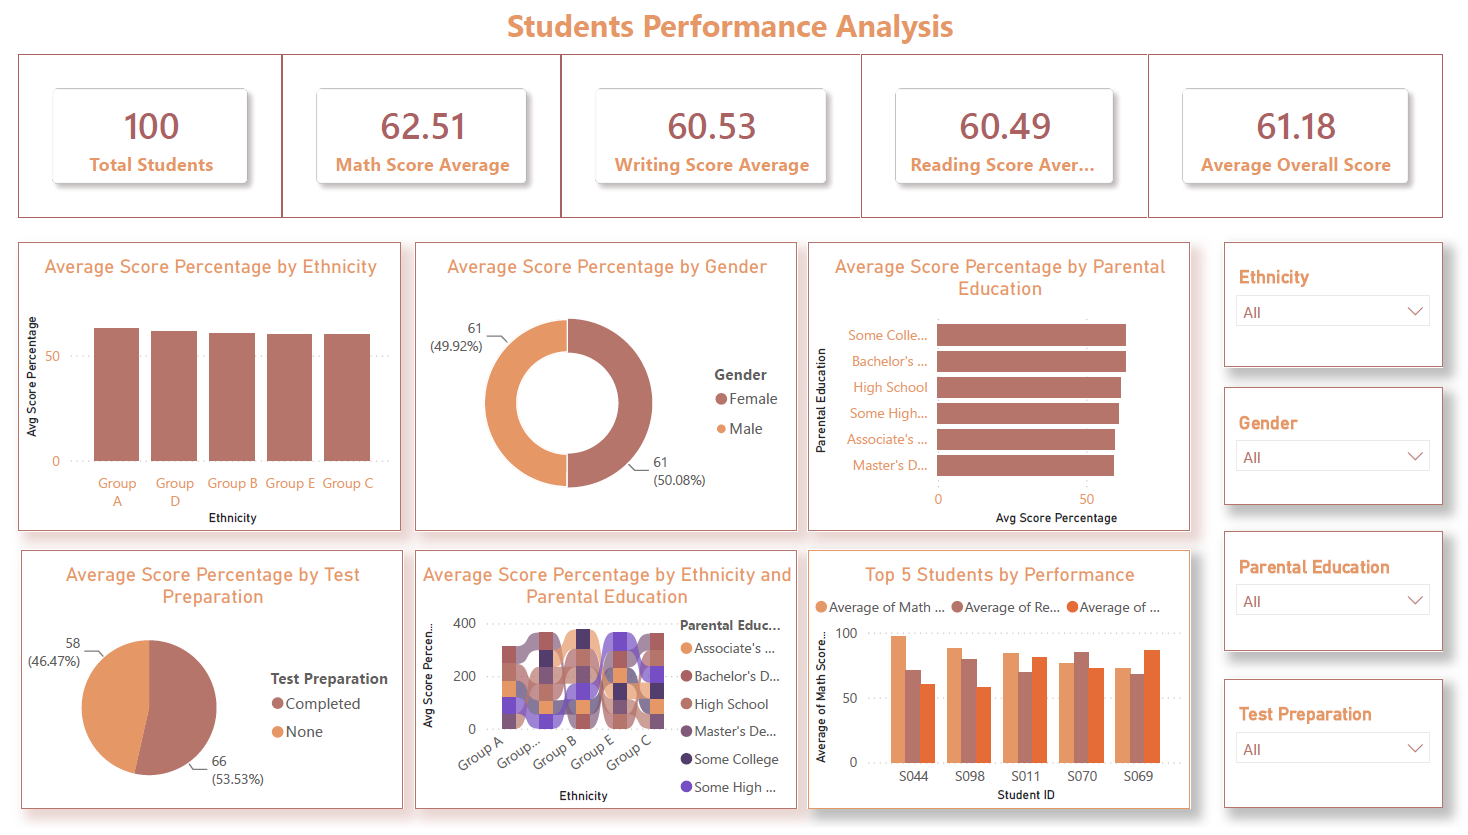

The dashboard page shown, as its layout file describes it:
{"tool":"powerbi","page":{"name":"Page 1","canvas":[1280,720],"ordinal":0},"visuals":[{"type":"textbox","box":[9.7,0,1271.1,63.1],"z":0},{"type":"cardVisual","fields":{"Data":["CountNonNull(Marks.Student ID)"]},"box":[24.3,48.6,228.3,142.5],"z":1000},{"type":"cardVisual","fields":{"Data":["Avg(Marks.Math Score)"]},"box":[252.6,48.6,242.9,142.5],"z":2000},{"type":"cardVisual","fields":{"Data":["Avg(Marks.Writing Score)"]},"box":[495.5,48.6,259.1,142.5],"z":3000},{"type":"cardVisual","fields":{"Data":["Avg(Marks.Reading Score)"]},"box":[754.6,48.6,249.4,142.5],"z":4000},{"type":"cardVisual","fields":{"Data":["Avg(Marks.Score Percentage)"]},"box":[1003.9,48.6,255.8,142.5],"z":5000},{"type":"slicer","fields":{"Values":["Marks.Ethnicity"]},"box":[1070.3,212.1,189.4,108.5],"z":6000},{"type":"slicer","fields":{"Values":["Marks.Gender"]},"box":[1070.3,338.4,189.4,102],"z":7000},{"type":"slicer","fields":{"Values":["Marks.Parental Education"]},"box":[1070.3,463.1,189.4,103.6],"z":8000},{"type":"columnChart","title":"Average Score Percentage by Ethnicity","fields":{"Category":["Marks.Ethnicity"],"Y":["Avg(Marks.Score Percentage)"]},"box":[24.3,212.1,331.9,251],"z":9000},{"type":"donutChart","title":"Average Score Percentage by Gender","fields":{"Category":["Marks.Gender"],"Y":["Avg(Marks.Score Percentage)"]},"box":[367.6,212.1,331.9,251],"z":10000},{"type":"clusteredBarChart","title":"Average Score Percentage by Parental Education","fields":{"Category":["Marks.Parental Education"],"Y":["Avg(Marks.Score Percentage)"]},"box":[709.2,212.1,331.9,251],"z":11000},{"type":"pieChart","title":"Average Score Percentage by Test Preparation","fields":{"Y":["Avg(Marks.Score Percentage)"],"Category":["Marks.Test Preparation"]},"box":[25.9,479.3,331.9,225.1],"z":12000},{"type":"ribbonChart","title":"Average Score Percentage by Ethnicity and Parental Education","fields":{"Category":["Marks.Ethnicity"],"Y":["Avg(Marks.Score Percentage)"],"Series":["Marks.Parental Education"]},"box":[367.6,479.3,331.9,225.1],"z":13000},{"type":"slicer","fields":{"Values":["Marks.Test Preparation"]},"box":[1070.3,591,189.4,111.7],"z":14000},{"type":"clusteredColumnChart","title":" Top 5 Students by Performance","fields":{"Y":["Avg(Marks.Math Score)","Avg(Marks.Reading Score)","Avg(Marks.Writing Score)"],"Category":["Marks.Student ID"]},"box":[709,479,332,225],"z":15000}]}

Visuals, with their boxes in screenshot pixels (x1, y1, x2, y2), scaled from the page's 1280x720 canvas onto the 1468x835 screenshot:
textbox: [left=11, top=0, right=1467, bottom=73]
cardVisual - CountNonNull(Marks.Student ID): [left=28, top=56, right=290, bottom=222]
cardVisual - Avg(Marks.Math Score): [left=290, top=56, right=568, bottom=222]
cardVisual - Avg(Marks.Writing Score): [left=568, top=56, right=865, bottom=222]
cardVisual - Avg(Marks.Reading Score): [left=865, top=56, right=1151, bottom=222]
cardVisual - Avg(Marks.Score Percentage): [left=1151, top=56, right=1445, bottom=222]
slicer - Marks.Ethnicity: [left=1228, top=246, right=1445, bottom=372]
slicer - Marks.Gender: [left=1228, top=392, right=1445, bottom=511]
slicer - Marks.Parental Education: [left=1228, top=537, right=1445, bottom=657]
"Average Score Percentage by Ethnicity" columnChart: [left=28, top=246, right=409, bottom=537]
"Average Score Percentage by Gender" donutChart: [left=422, top=246, right=802, bottom=537]
"Average Score Percentage by Parental Education" clusteredBarChart: [left=813, top=246, right=1194, bottom=537]
"Average Score Percentage by Test Preparation" pieChart: [left=30, top=556, right=410, bottom=817]
"Average Score Percentage by Ethnicity and Parental Education" ribbonChart: [left=422, top=556, right=802, bottom=817]
slicer - Marks.Test Preparation: [left=1228, top=685, right=1445, bottom=815]
" Top 5 Students by Performance" clusteredColumnChart: [left=813, top=556, right=1194, bottom=816]
